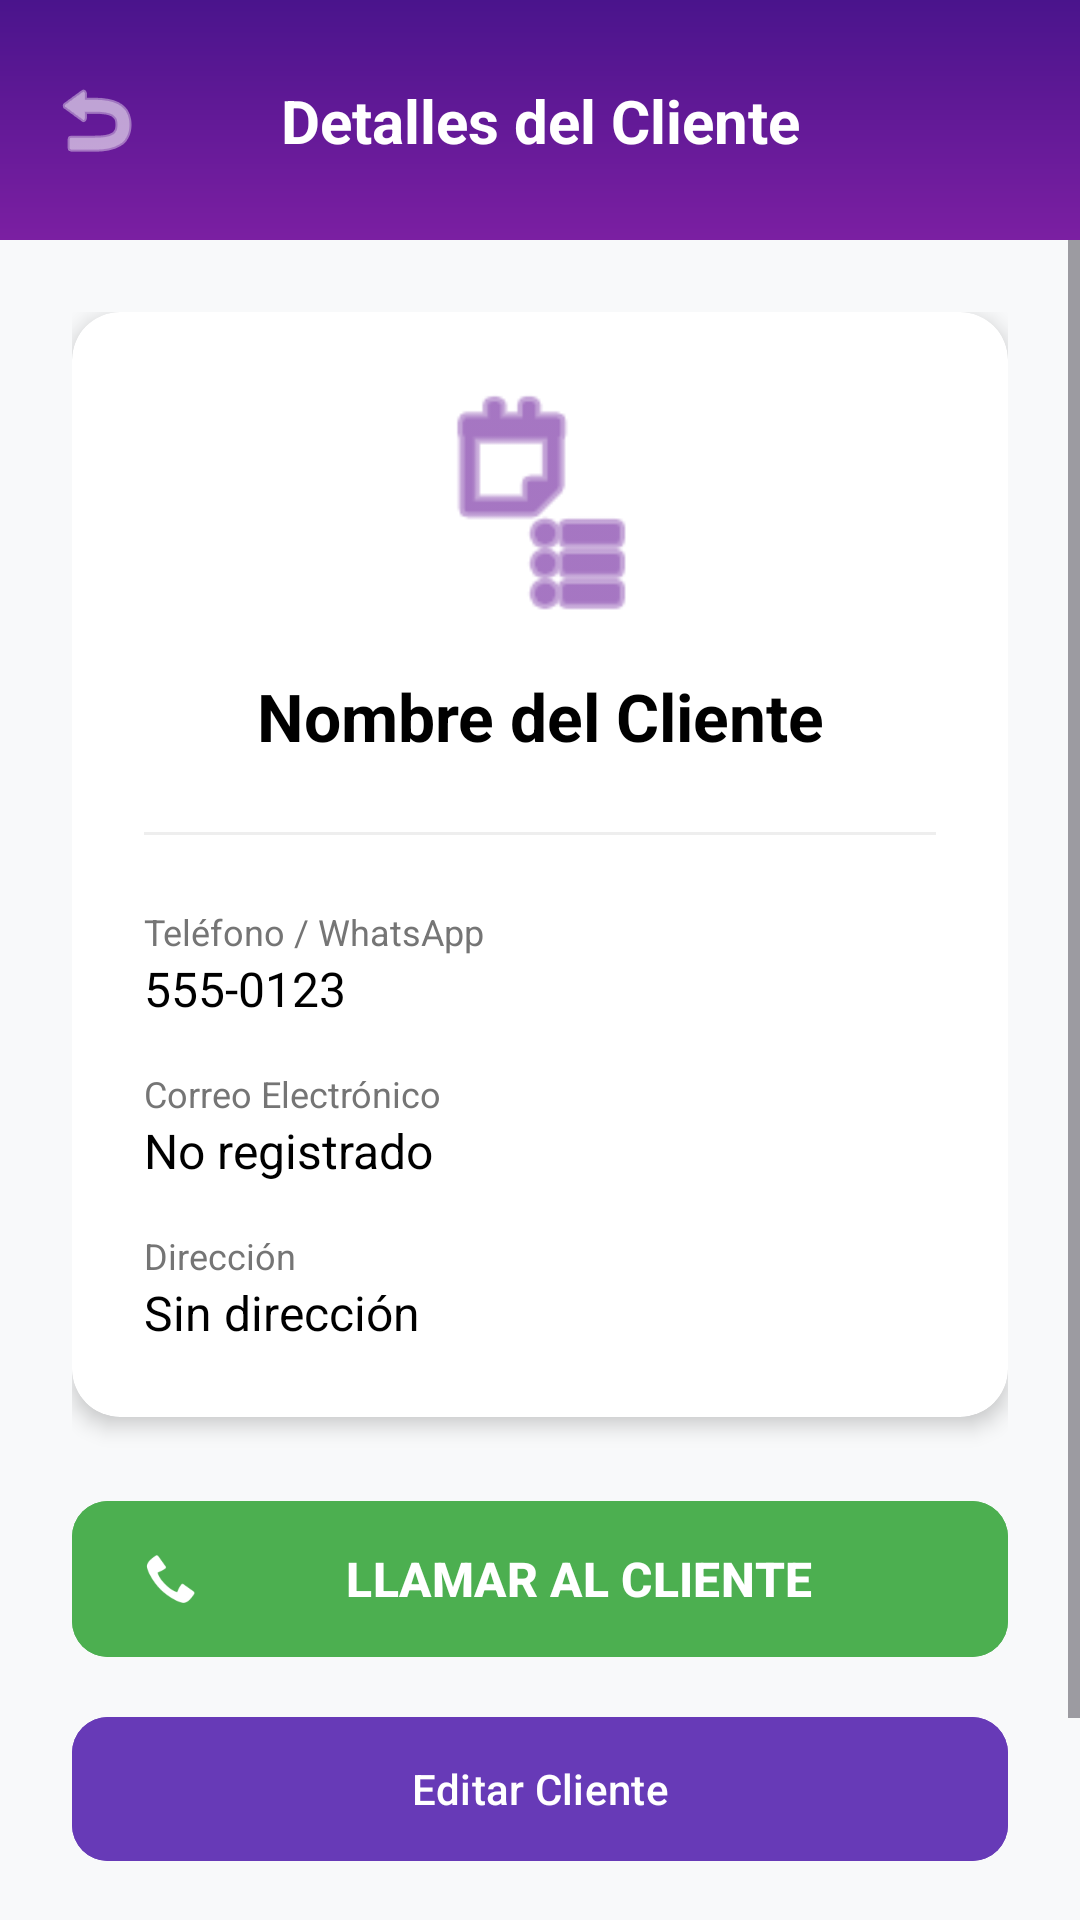

Where icons sit on this 1080w x 1920h app screen, as (x1, y1, x2, y2):
agenda: (457, 396, 626, 610)
revert: (24, 86, 168, 192)
